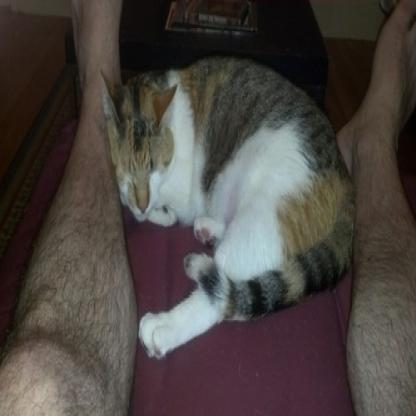Target: (97, 53, 356, 351)
